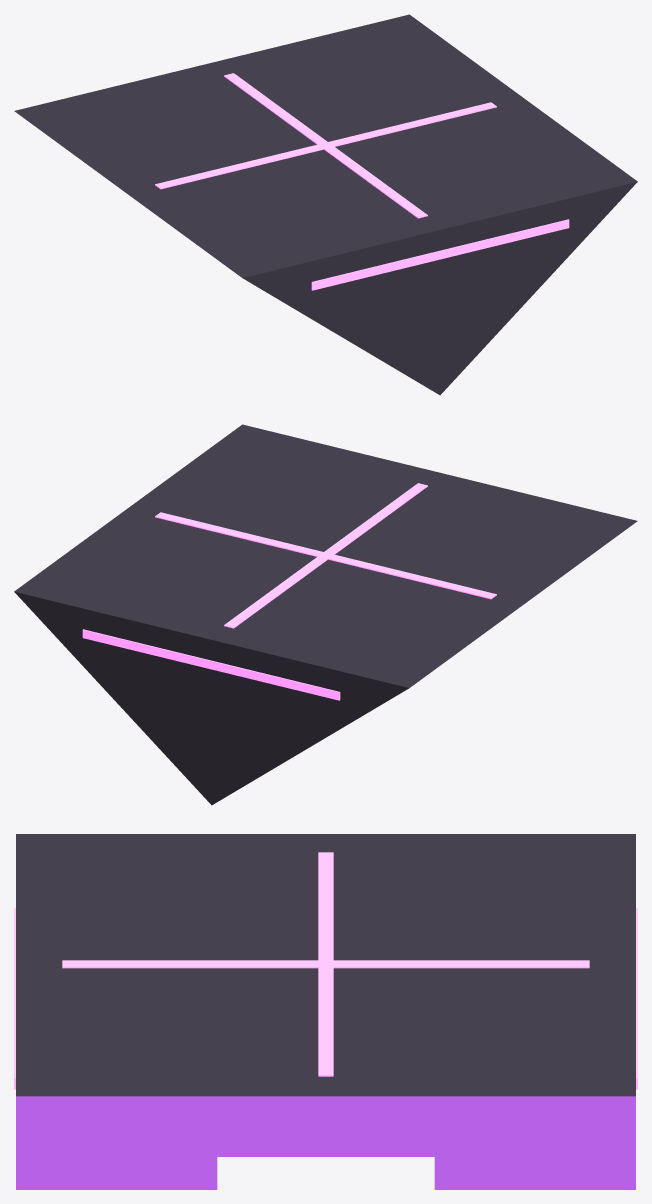
The model's file is boss_cube_wedge_top.glb.
3 renders of one model, top to bottom at view 1: azimuth 30°, elevation 25°; view 2: azimuth 150°, elevation 25°; view 3: azimuth 270°, elevation 25°, orthographic. The views are drawn at different scales.
Visible parts, largest first — view 1: boss_cube_wedge_top; view 2: boss_cube_wedge_top; view 3: boss_cube_wedge_top.
Boxes of the visible parts, x1,y1,x2,y2 form: boss_cube_wedge_top: (14,14,637,395); boss_cube_wedge_top: (14,424,637,805); boss_cube_wedge_top: (14,834,637,1189).
Size of the model in its own units: 2 by 0.8048 by 2.01.
